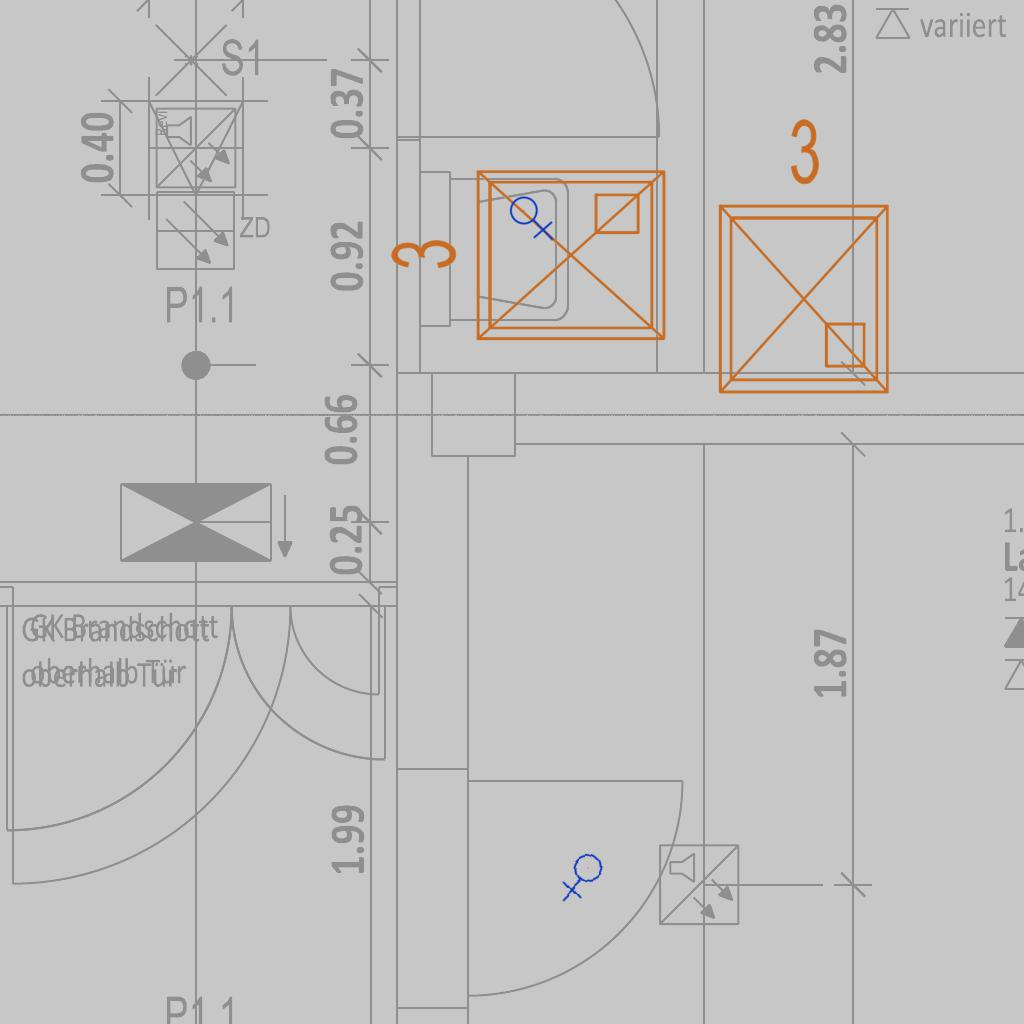Einbaudownlights_LED_Konferenzraeume: (380, 155, 680, 363), (696, 108, 904, 408)
Elektroanschluss_allgemein_230V_Geraeteanschlussdose_230V: (555, 850, 612, 905), (509, 192, 556, 241)
